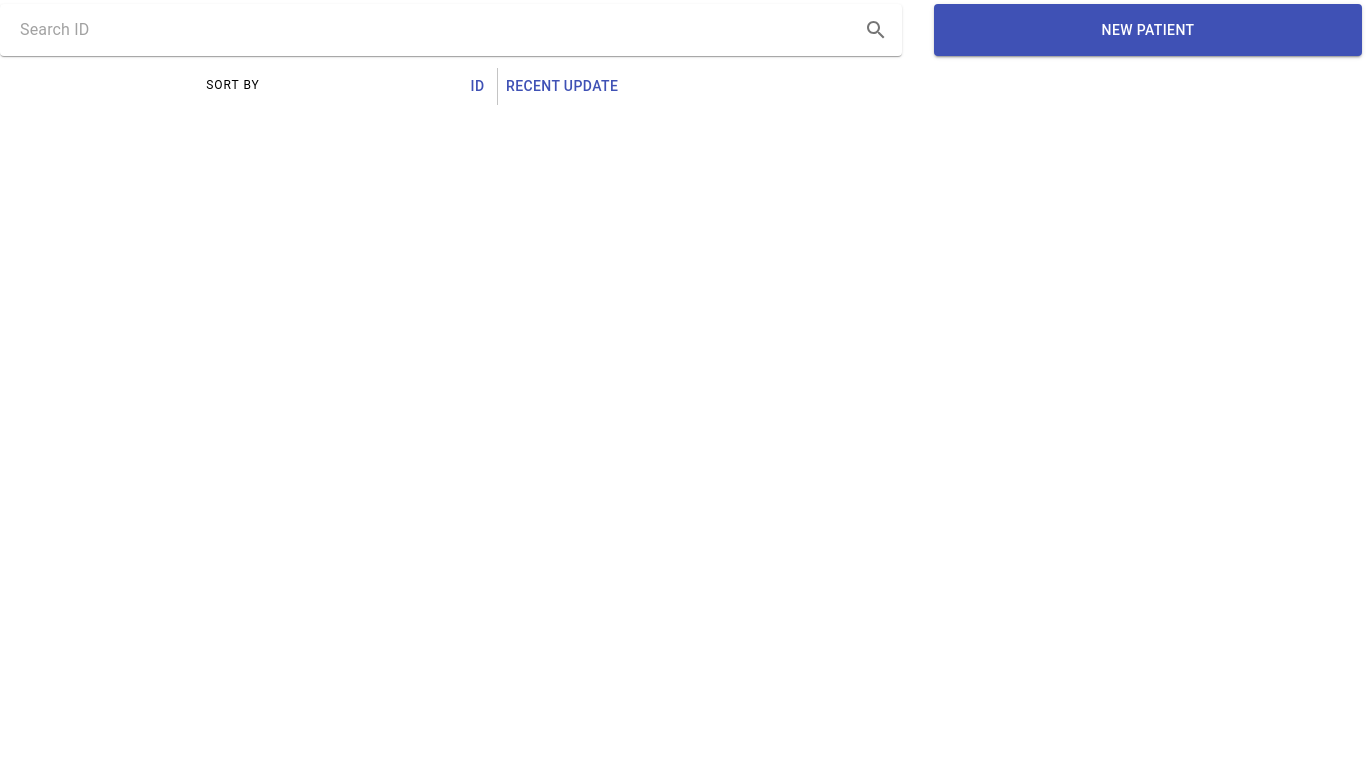
Scenario: Test by [Jest] module › Check if [Add Patient] element popup after clicking [New Patient] button
Click the button "New Patient" at point(1148, 30), box [934,4,1362,56]
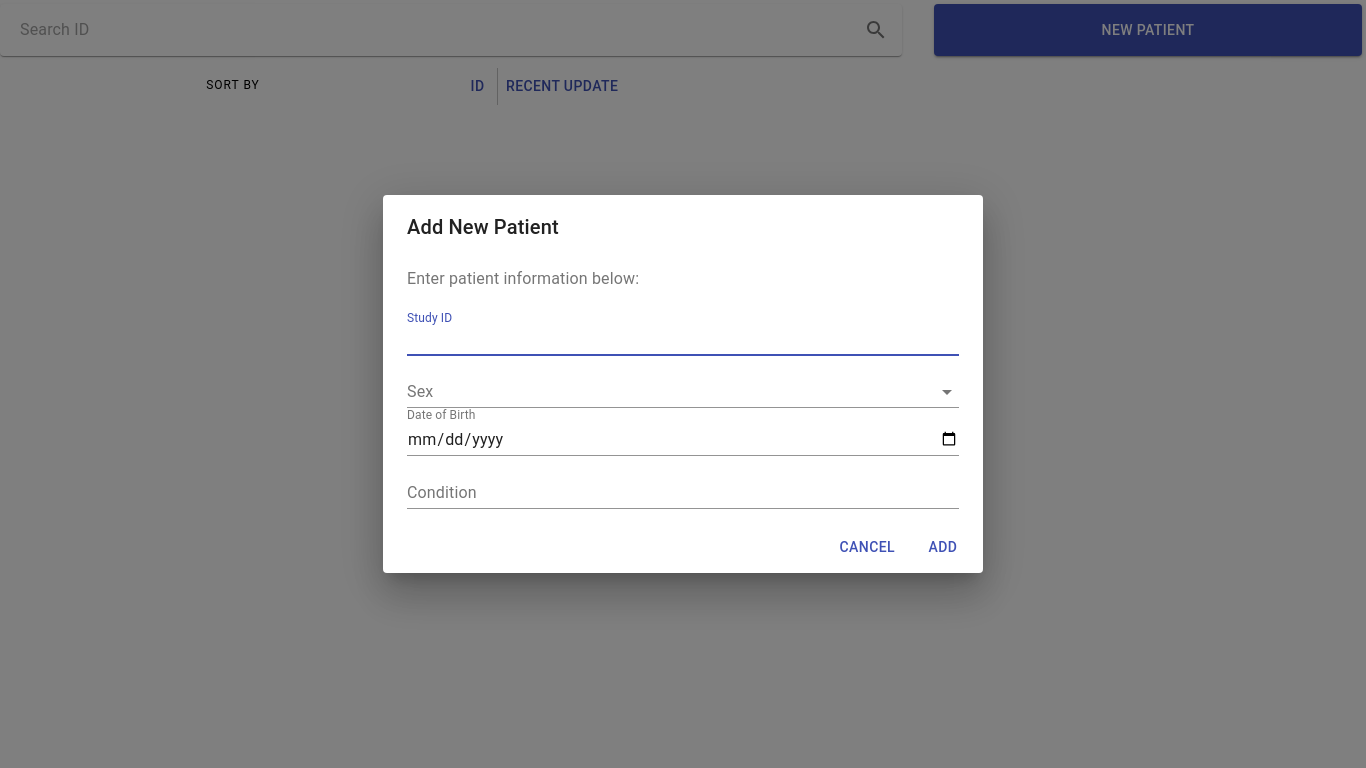
Now the heading "Add New Patient" is shown, box [407,215,559,239]
